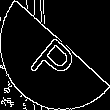P_NE: (26, 24, 84, 86)
